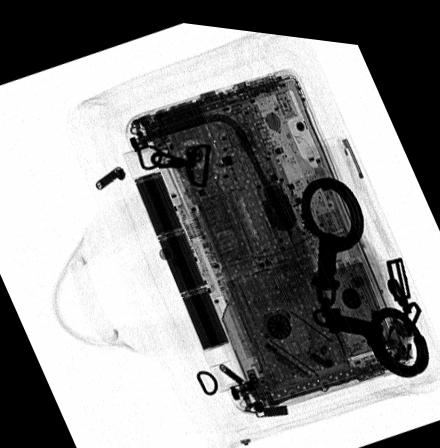HandCuffs: (299, 165, 430, 367)
